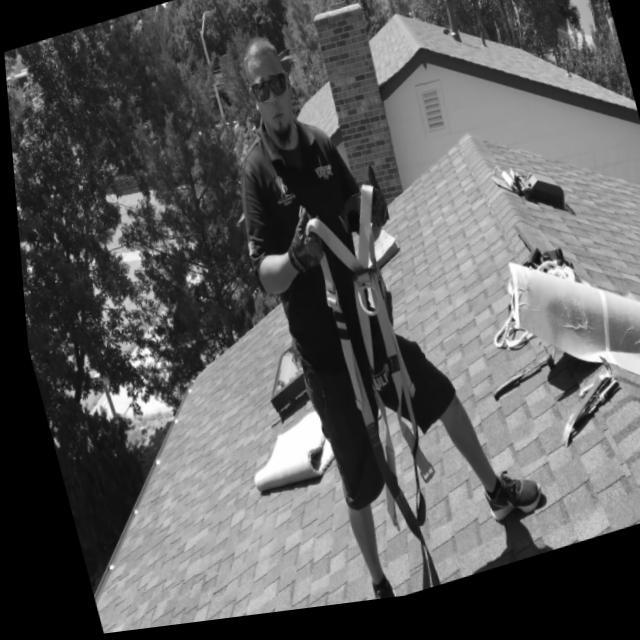belt: (282, 178, 458, 566)
